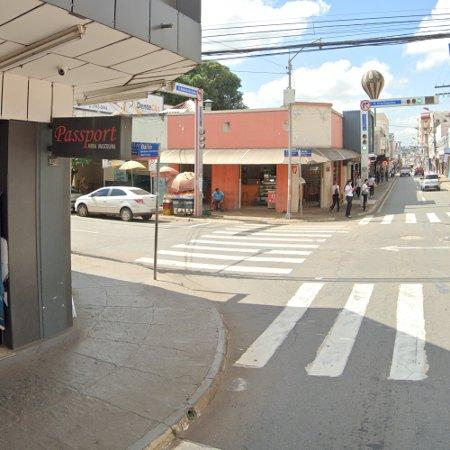crosswalks: (137, 220, 342, 277)
